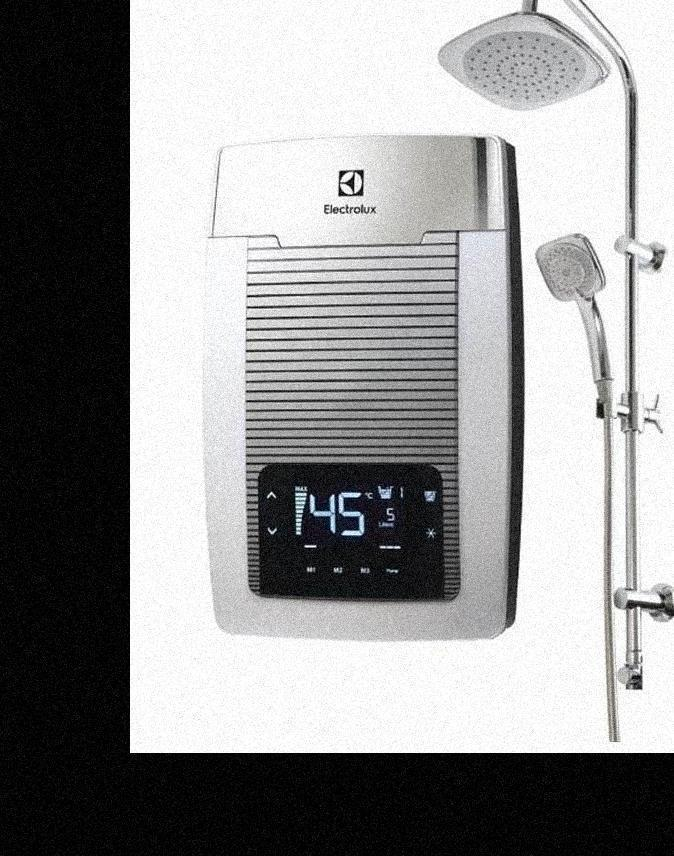Ducha: (192, 0, 669, 752)
